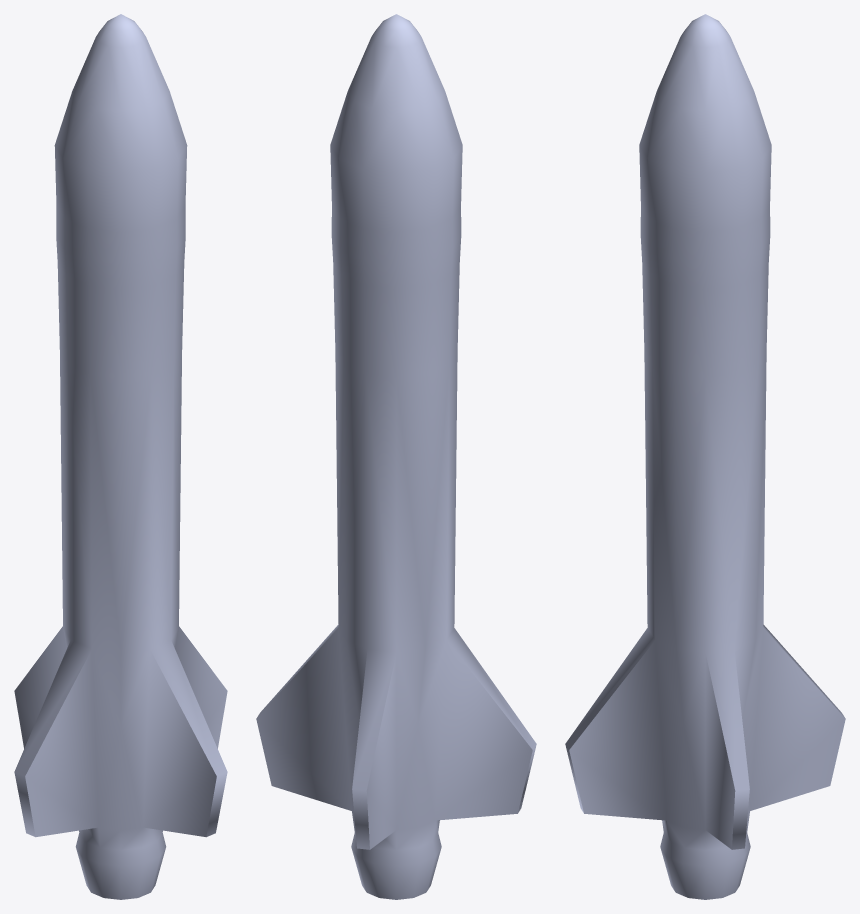
File: foguetyto.fbx
The picture shows the model from 3 angles, left to right: view 1: azimuth 30°, elevation 25°; view 2: azimuth 150°, elevation 25°; view 3: azimuth 270°, elevation 25°; orthographic projection.
Visible parts, largest first — view 1: Cube; view 2: Cube; view 3: Cube.
Boxes of the visible parts, x1,y1,x2,y2 form: Cube: (14,14,227,899); Cube: (256,14,536,899); Cube: (565,14,845,899).
Bounding box in the file's own units: 2.39 × 8.19 × 2.39.
